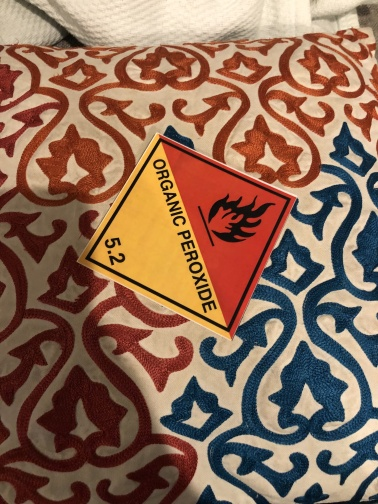OrganicPeroxide: (77, 134, 296, 340)
